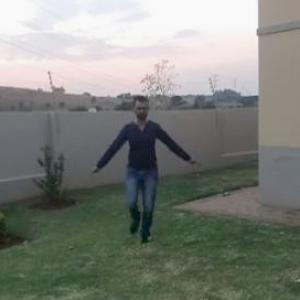land: (84, 84, 196, 251)
